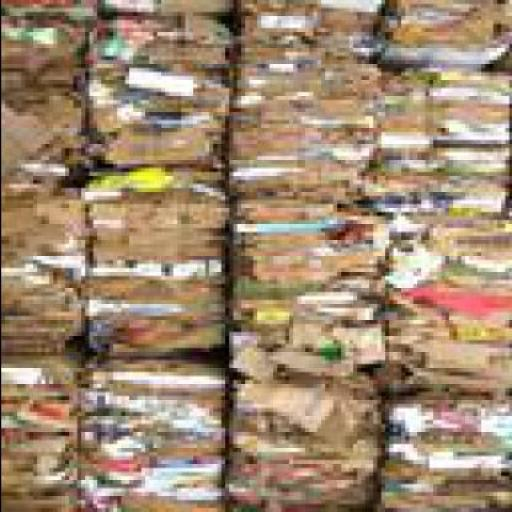cardboard: (2, 3, 510, 512), (236, 196, 392, 380), (80, 176, 233, 361), (236, 41, 388, 208), (92, 24, 232, 184), (222, 380, 388, 511), (388, 219, 510, 396), (372, 72, 510, 226), (87, 364, 229, 511), (4, 176, 92, 364), (4, 4, 88, 188), (386, 396, 511, 512), (4, 361, 84, 496), (384, 4, 511, 72), (236, 4, 384, 40), (96, 4, 236, 28), (2, 492, 80, 511)
